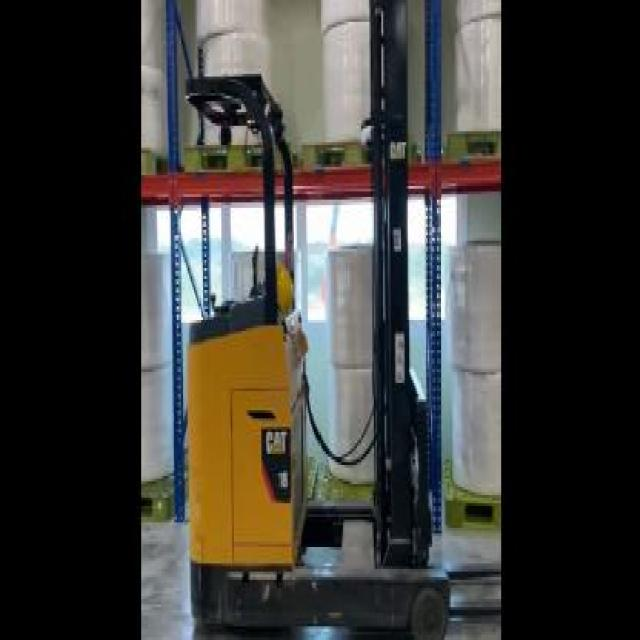robot: (177, 3, 485, 637)
white_roll: (224, 249, 302, 506), (320, 235, 395, 495), (298, 3, 412, 158), (444, 246, 502, 525), (183, 3, 271, 158), (137, 249, 186, 517), (446, 3, 500, 158), (137, 0, 171, 164)
